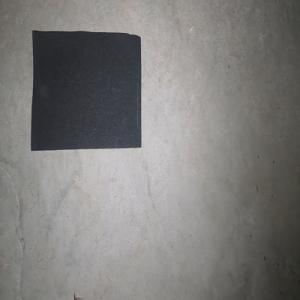PaintChip: (30, 30, 141, 151)
